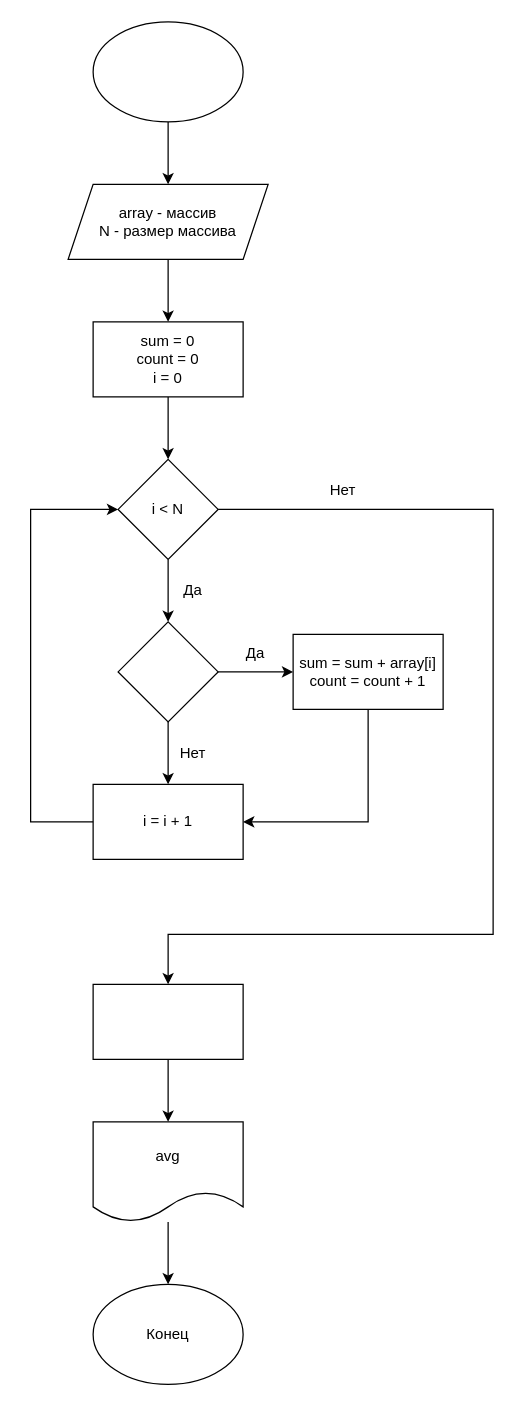
This 525x1406 diagram has some shape labels left out. Here are the shapes that lost their labels. From the top down, the centre of each, then its label:
At point (167, 71): "Начало".
At point (167, 671): "i % 2 == 0".
At point (167, 1021): "avg = sum / count".
